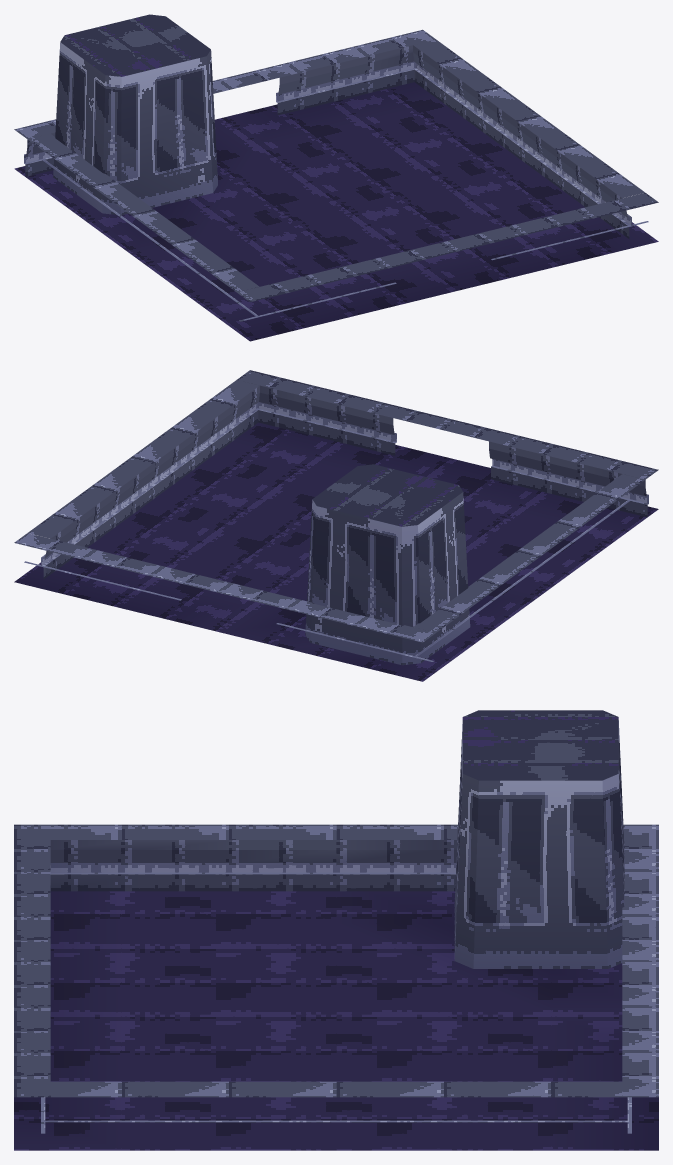
The model's file is cyroom.rooftop.glb.
3 views of the same model, one above another, from view 1: azimuth 30°, elevation 25°; view 2: azimuth 150°, elevation 25°; view 3: azimuth 270°, elevation 25° (orthographic). The views are drawn at different scales.
Visible parts, largest first — view 1: kit_shell_floor, kit_shell_walls, kit_trim; view 2: kit_shell_floor, kit_shell_walls, kit_trim; view 3: kit_shell_floor, kit_shell_walls, kit_trim.
Part boxes in pixels (left/top/right/bottom): kit_shell_floor: left=14, top=82, right=658, bottom=341; kit_shell_walls: left=14, top=29, right=658, bottom=321; kit_trim: left=53, top=14, right=217, bottom=215; kit_shell_floor: left=14, top=422, right=658, bottom=681; kit_shell_walls: left=14, top=370, right=658, bottom=661; kit_trim: left=305, top=464, right=470, bottom=665; kit_shell_floor: left=14, top=891, right=658, bottom=1150; kit_shell_walls: left=14, top=824, right=658, bottom=1133; kit_trim: left=454, top=710, right=624, bottom=968.
Size of the model in its own units: 12 by 3.8 by 12.
5 materials, 5 textured.
